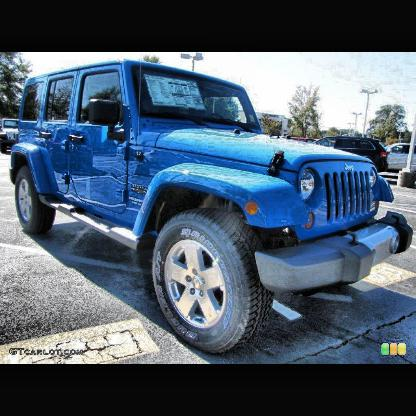Jeep Wrangler SUV 2012: (12, 59, 413, 358)
